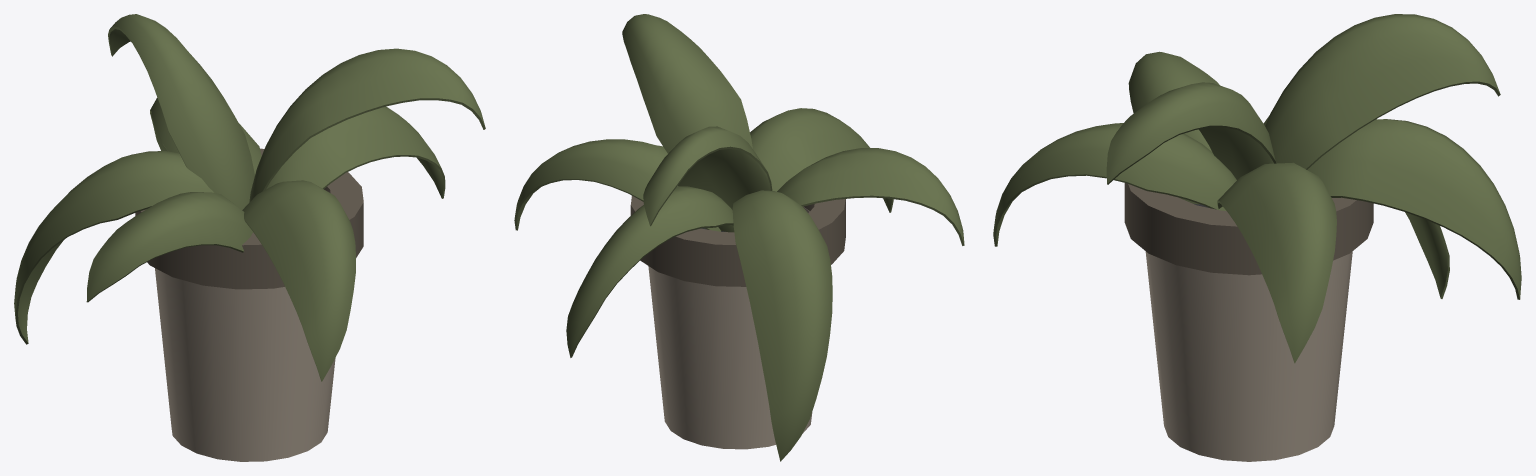
File: colored plant livingroom2.fbx
3 renders of one model, left to right at view 1: azimuth 30°, elevation 25°; view 2: azimuth 150°, elevation 25°; view 3: azimuth 270°, elevation 25°, orthographic. The views are drawn at different scales.
Visible parts, largest first — view 1: polySurface7, polySurface5, polySurface4; view 2: polySurface7, polySurface5, polySurface4; view 3: polySurface7, polySurface5, polySurface4.
Boxes of the visible parts, box(x1,y1,x2,y2) form: polySurface7: box(14, 14, 485, 381); polySurface5: box(155, 268, 335, 461); polySurface4: box(135, 148, 363, 289); polySurface7: box(514, 14, 964, 461); polySurface5: box(648, 207, 812, 449); polySurface4: box(630, 196, 845, 286); polySurface7: box(993, 14, 1521, 363); polySurface5: box(1145, 251, 1352, 461); polySurface4: box(1124, 183, 1373, 275).
Size of the model in its own units: 0.5943 by 0.5017 by 0.6022.
